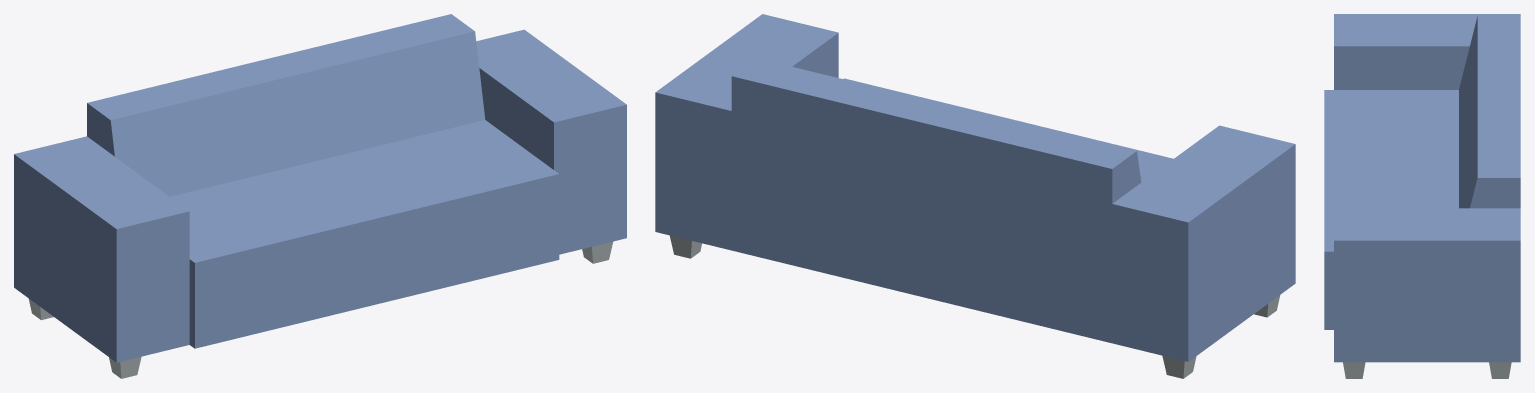
File: loungeDesignSofa.glb
The picture shows the model from 3 angles, left to right: view 1: azimuth 30°, elevation 25°; view 2: azimuth 150°, elevation 25°; view 3: azimuth 270°, elevation 25°; orthographic projection. The views are drawn at different scales.
Visible parts, largest first — view 1: loungeDesignSofa; view 2: loungeDesignSofa; view 3: loungeDesignSofa.
Part boxes in pixels (bbox=[...]): loungeDesignSofa: bbox=[14, 14, 626, 378]; loungeDesignSofa: bbox=[655, 14, 1295, 378]; loungeDesignSofa: bbox=[1324, 14, 1520, 378].
Size of the model in its own units: 1.12 by 0.4 by 0.41.
